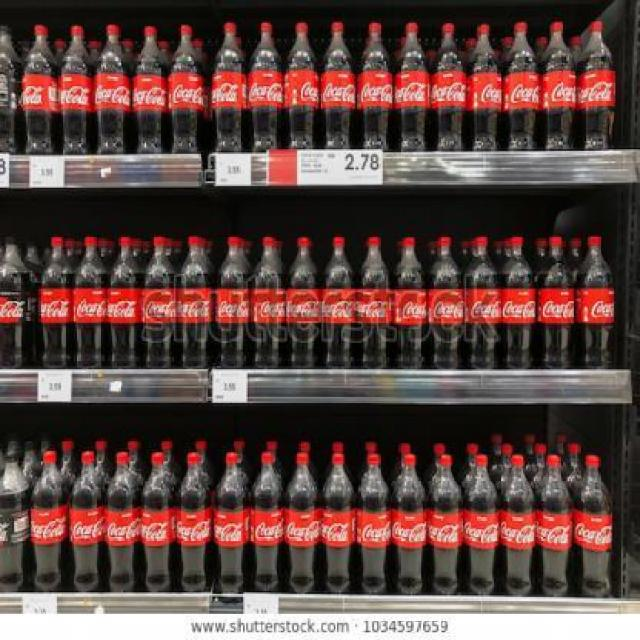Drinks: (572, 454, 614, 597), (212, 451, 250, 594), (574, 236, 614, 370), (32, 451, 70, 592), (462, 454, 500, 595), (320, 452, 357, 594), (576, 19, 616, 150), (500, 455, 537, 596), (176, 236, 215, 369), (392, 20, 431, 152), (536, 454, 572, 597), (356, 453, 392, 595), (106, 451, 142, 592), (249, 452, 285, 593), (392, 454, 428, 594), (21, 24, 59, 156), (210, 20, 248, 152), (427, 453, 462, 595), (464, 236, 501, 370), (500, 236, 537, 370), (537, 236, 574, 370), (70, 451, 105, 592), (285, 452, 320, 593), (502, 21, 540, 150), (141, 452, 176, 592), (177, 452, 212, 592), (286, 236, 322, 370), (393, 236, 429, 370), (428, 236, 464, 370), (95, 24, 132, 154), (430, 22, 467, 152), (73, 236, 109, 369), (321, 236, 357, 369), (168, 24, 205, 153), (540, 21, 577, 150), (248, 21, 284, 153), (215, 236, 250, 370), (251, 236, 286, 370), (59, 24, 95, 154), (38, 236, 73, 369), (357, 236, 392, 369), (131, 26, 167, 154), (142, 236, 176, 370), (357, 22, 392, 152), (467, 22, 502, 152), (0, 450, 32, 592), (108, 236, 142, 369), (284, 22, 319, 149), (320, 22, 355, 149), (1, 234, 33, 368)
